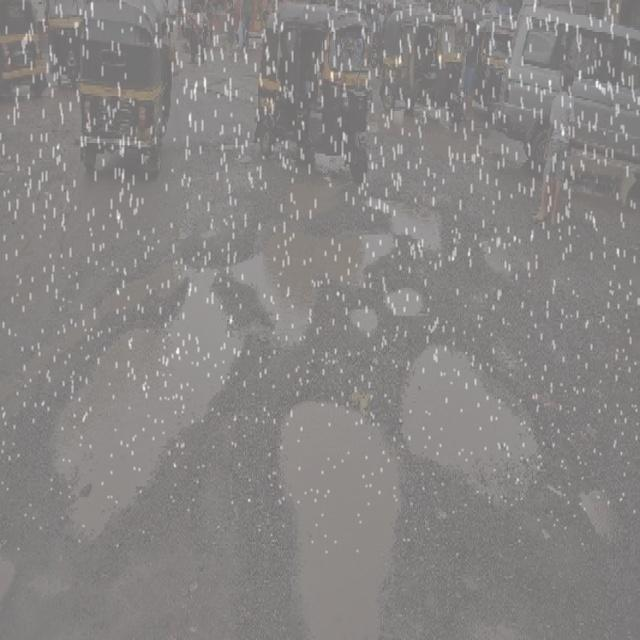Pothole: (0, 253, 243, 551), (271, 392, 401, 640), (389, 334, 545, 518), (217, 219, 410, 350), (364, 184, 449, 252), (276, 173, 361, 223), (577, 484, 623, 552), (383, 283, 426, 325), (342, 304, 380, 335)
